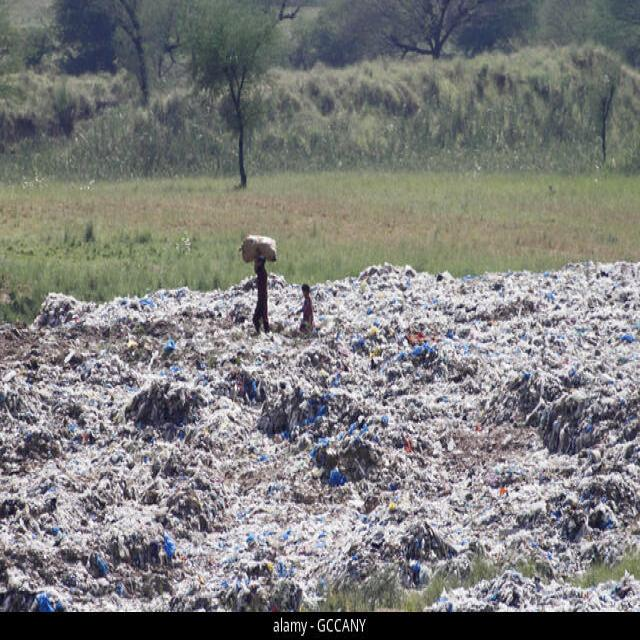trash: (48, 319, 603, 576), (411, 270, 622, 314)
